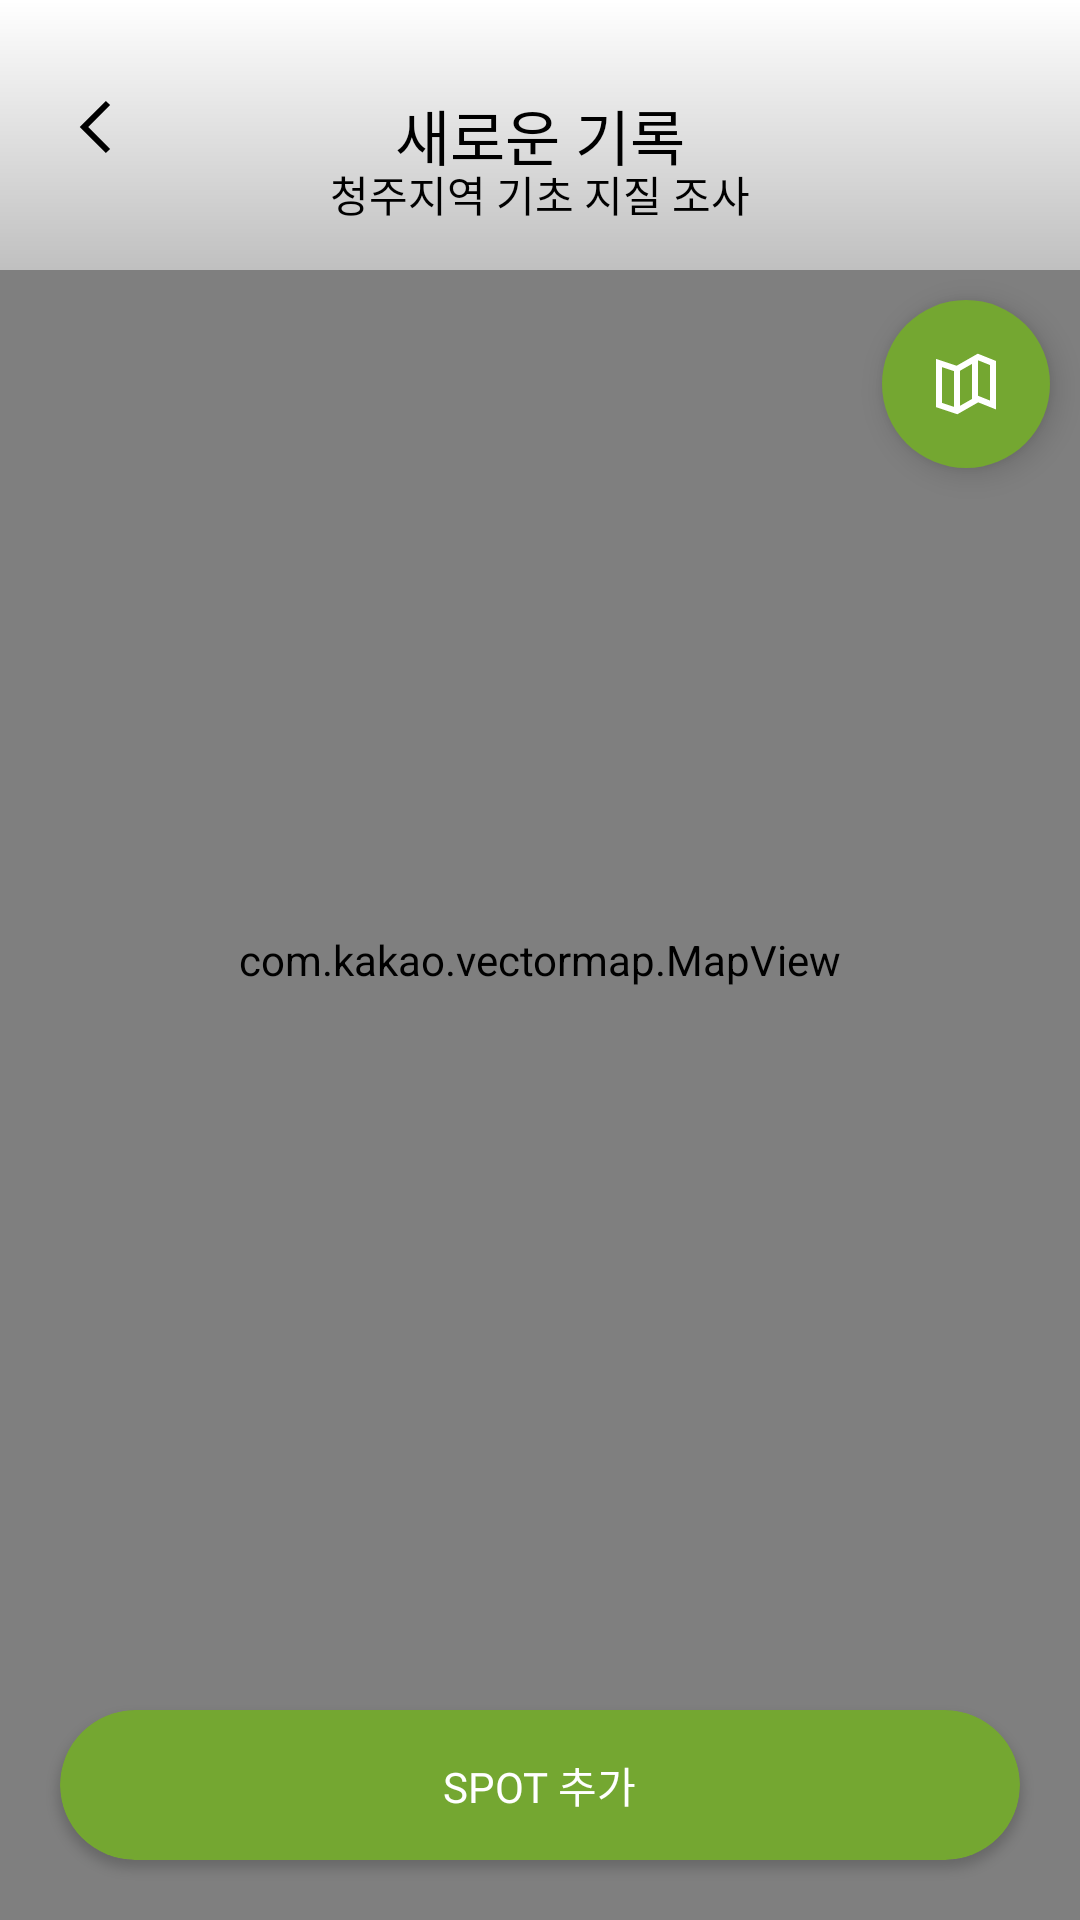

Point at icon controls on the screen. Image size 1080*1920, points as (x,y).
chevron left: (95,127)
map: (966,384)
